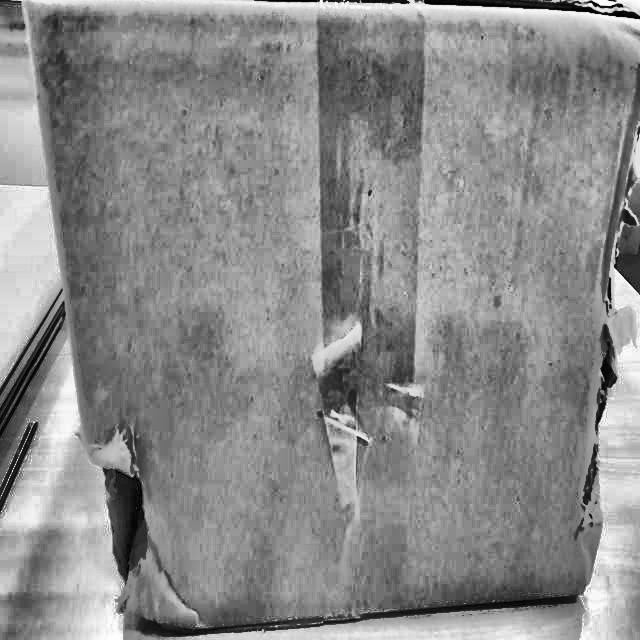box: (12, 0, 639, 639)
hole: (576, 129, 629, 532), (102, 445, 177, 605)
